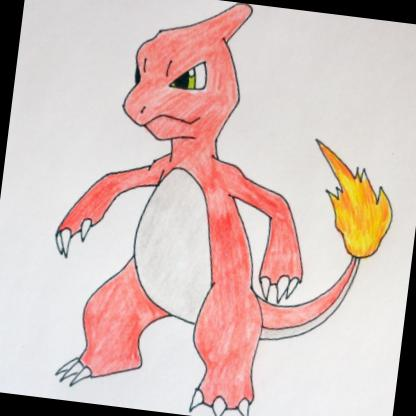Charmeleon: (1, 31, 416, 416)
